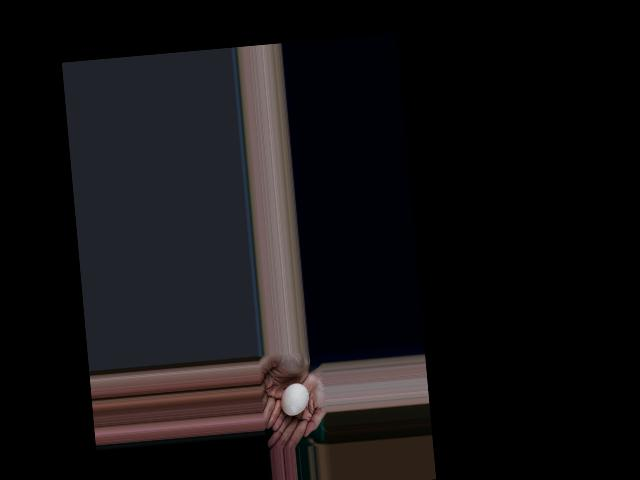egg: (279, 383, 309, 416)
